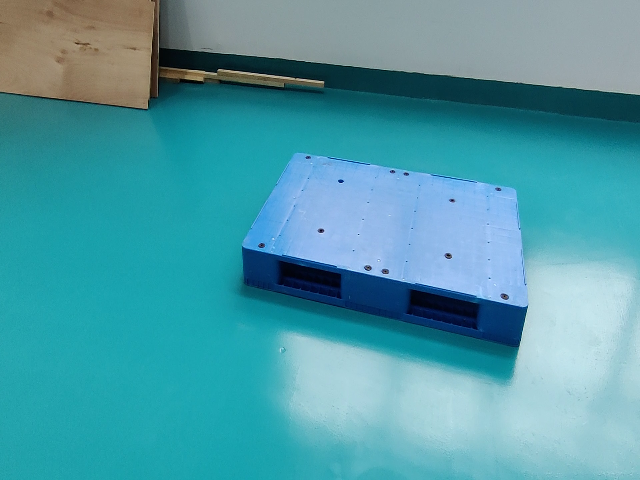block: (343, 270, 407, 321), (477, 300, 527, 349), (243, 247, 280, 293)
